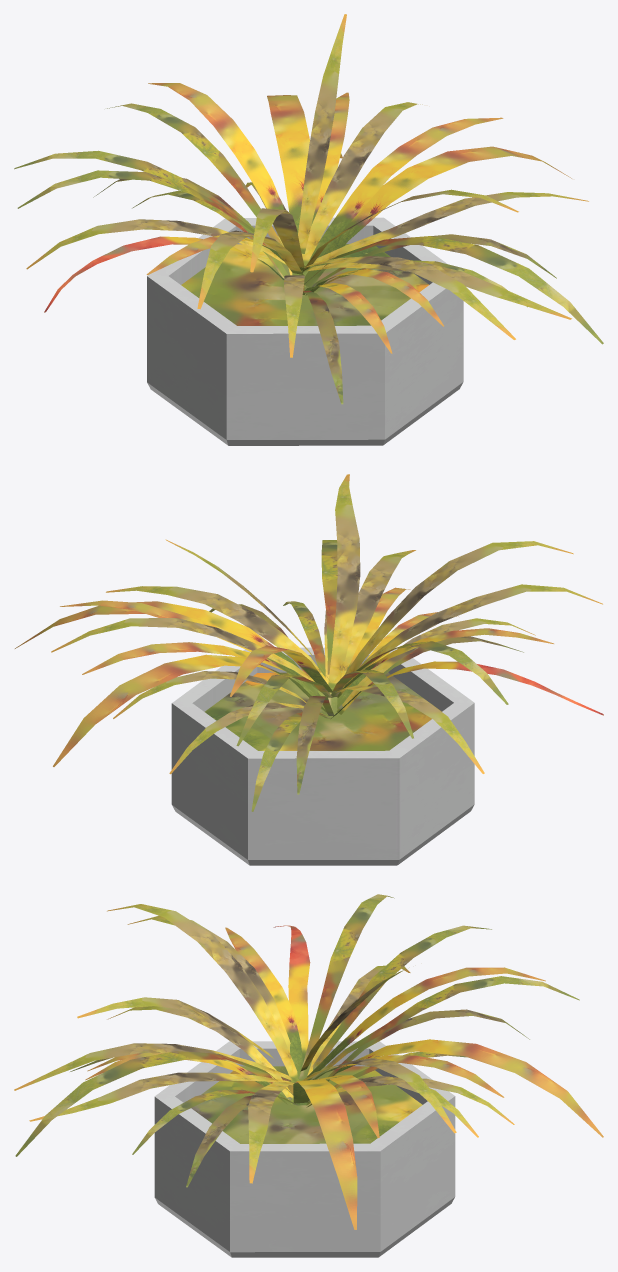
File: propDeskPlant.fbx
The picture shows the model from 3 angles, top to bottom: view 1: azimuth 30°, elevation 25°; view 2: azimuth 150°, elevation 25°; view 3: azimuth 270°, elevation 25°; orthographic projection. The views are drawn at different scales.
Visible parts, largest first — view 1: propDeskPlant; view 2: propDeskPlant; view 3: propDeskPlant.
Boxes of the visible parts, <box> form: propDeskPlant: <box>14,14,603,445</box>; propDeskPlant: <box>15,474,603,865</box>; propDeskPlant: <box>14,894,603,1257</box>.
Size of the model in its own units: 42.61 by 21.82 by 39.96.
Materials: 2 (2 with a texture image).
